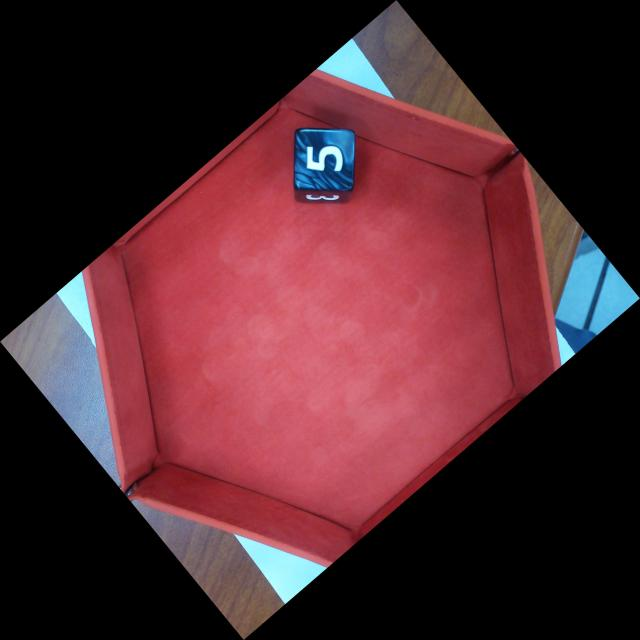dice: (291, 126, 356, 192)
